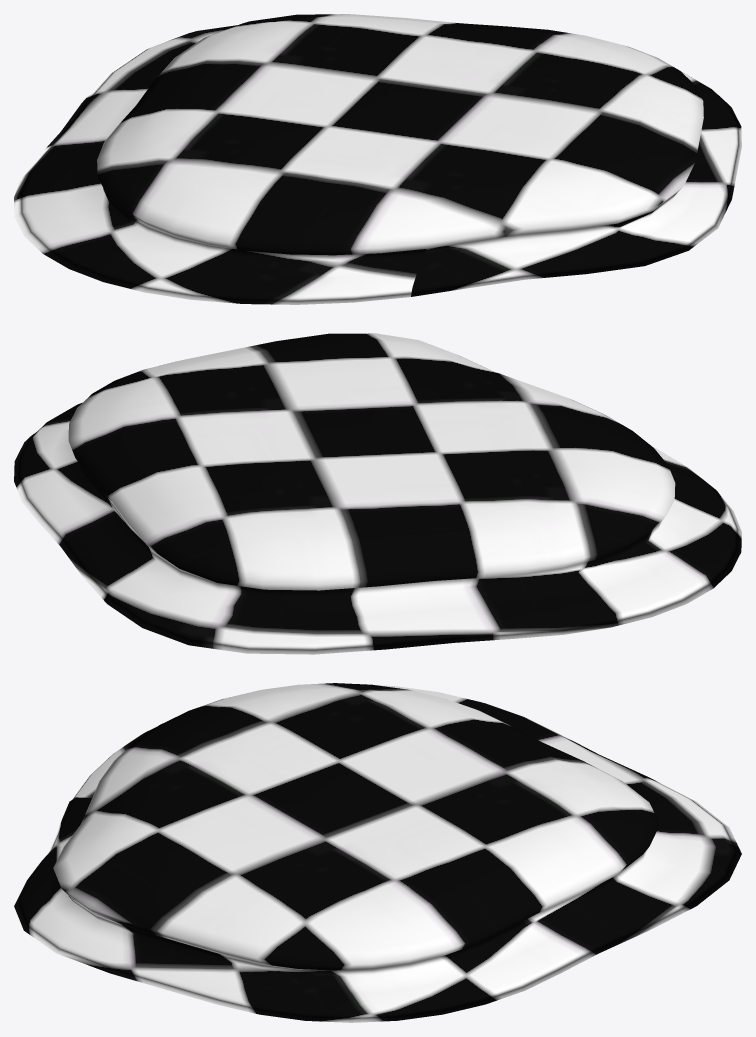
Rendered from SandDune1.fbx.
3 renders of one model, top to bottom at view 1: azimuth 30°, elevation 25°; view 2: azimuth 150°, elevation 25°; view 3: azimuth 270°, elevation 25°, orthographic. The views are drawn at different scales.
Parts seen in each view (by area): view 1: pCylinder4; view 2: pCylinder4; view 3: pCylinder4.
Boxes of the visible parts, x1=… form: pCylinder4: x1=14, y1=14, x2=741, y2=304; pCylinder4: x1=14, y1=333, x2=741, y2=654; pCylinder4: x1=14, y1=683, x2=741, y2=1022.
Bounding box in the file's own units: 4.52 × 0.4479 × 4.11.
